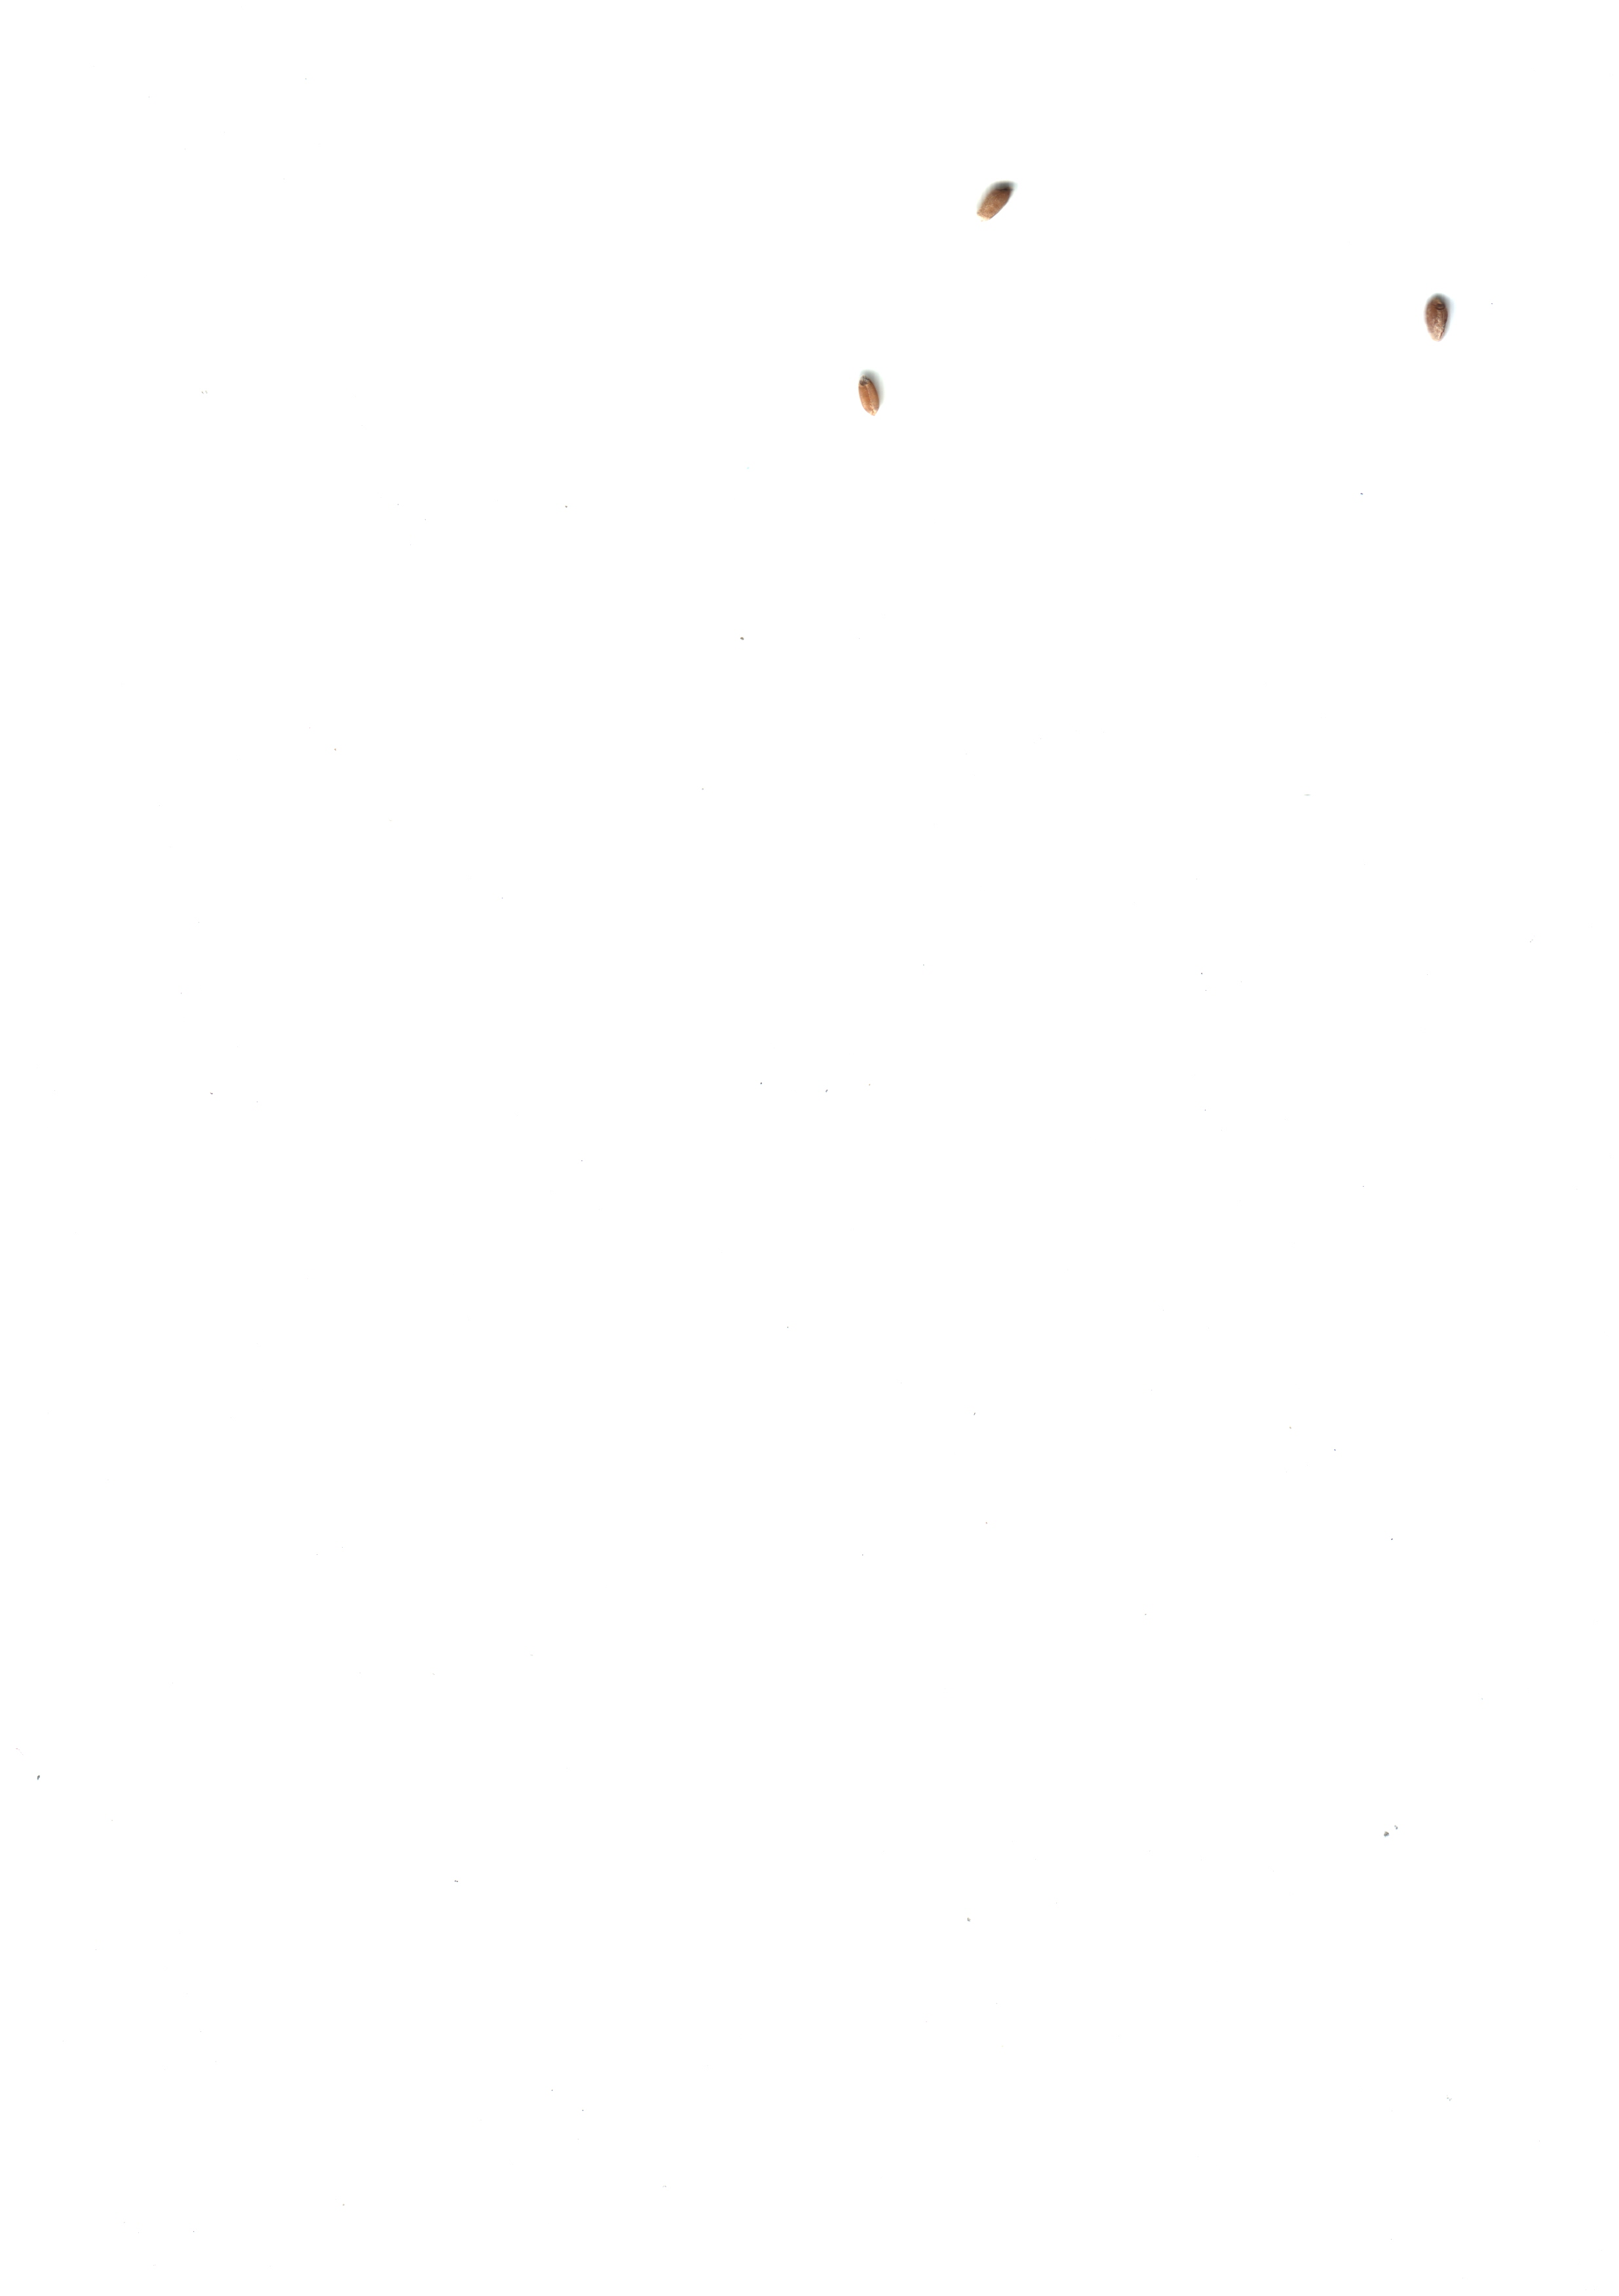grains_2_5mm: (957, 165, 1039, 254), (832, 345, 915, 433), (1403, 270, 1484, 359)
